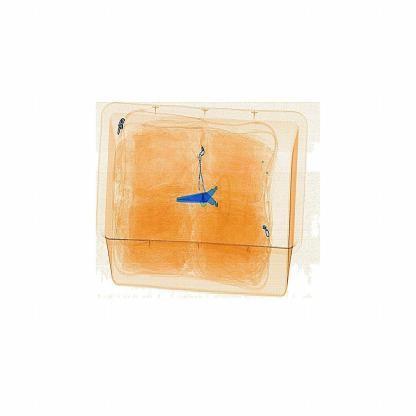gun: (173, 170, 236, 223)
